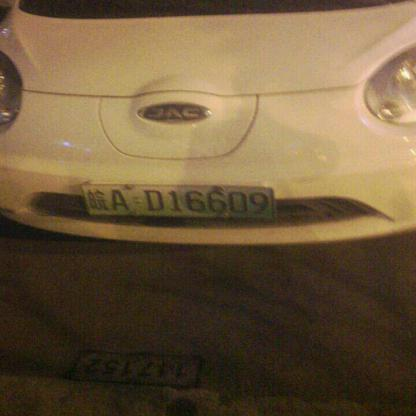lp: (82, 182, 276, 218)
